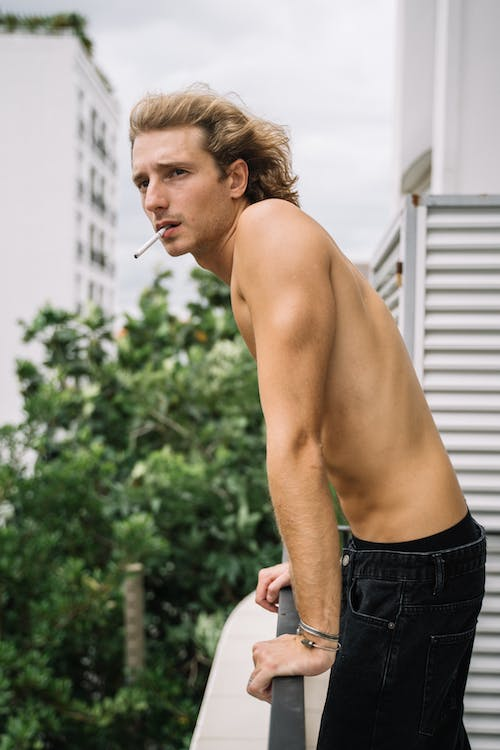cigarette: (131, 222, 173, 261)
